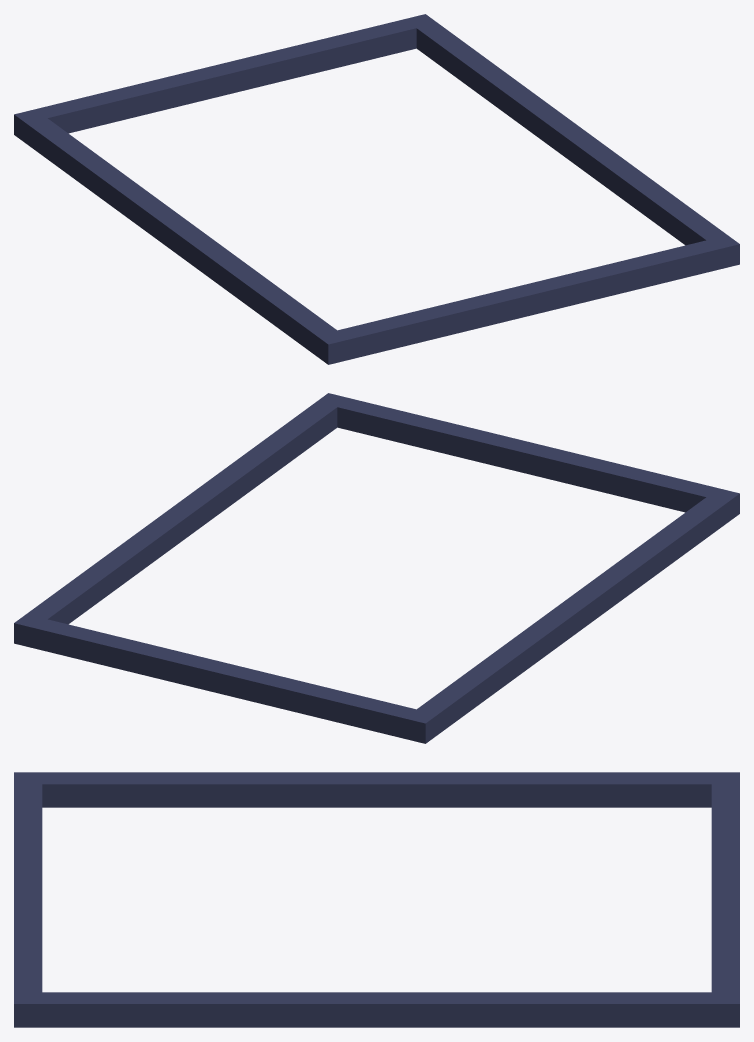
File: FBX_CadreGrille.fbx
The picture shows the model from 3 angles, top to bottom: view 1: azimuth 30°, elevation 25°; view 2: azimuth 150°, elevation 25°; view 3: azimuth 270°, elevation 25°; orthographic projection. The views are drawn at different scales.
Visible parts, largest first — view 1: Cube.141; view 2: Cube.141; view 3: Cube.141.
Part boxes in pixels (x1,y1,x2,y2): Cube.141: (14,14,739,364); Cube.141: (14,393,739,743); Cube.141: (14,772,739,1027).
Bounding box in the file's own units: 949 × 44.97 × 1255.
